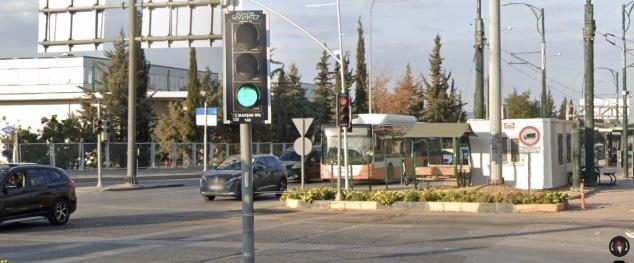greenlight: (223, 12, 268, 123)
